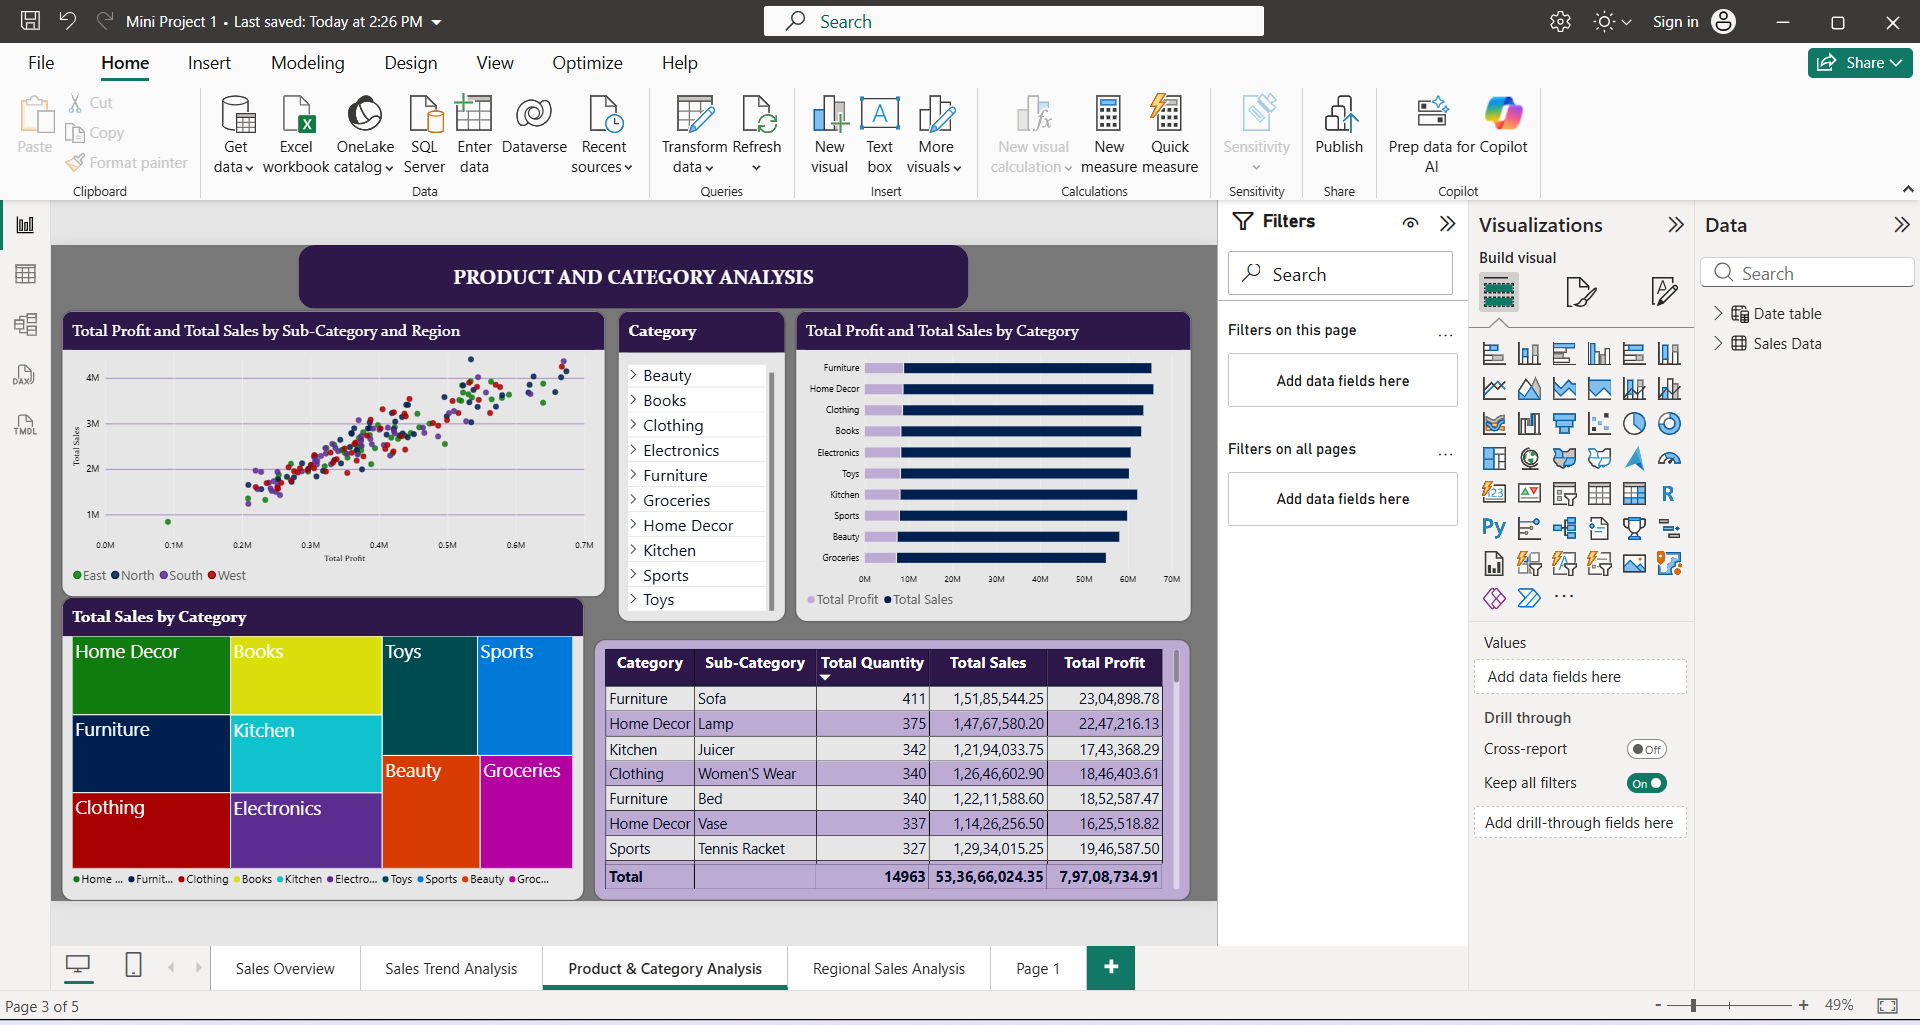

The page's visual inventory and layout, read from the dashboard file:
{"tool":"powerbi","page":{"name":"Product & Category Analysis","canvas":[1920,1080],"ordinal":2},"visuals":[{"type":"barChart","fields":{"Category":["Sales Data.Category"],"Y":["Sales Data.Total Profit","Sales Data.Total Sales"]},"box":[1224,108,654.5,514.6],"z":1},{"type":"treemap","fields":{"Group":["Sales Data.Category","Sales Data.Sub-Category"],"Values":["Sales Data.Total Sales"]},"box":[16,578,862,502],"z":2},{"type":"scatterChart","fields":{"Category":["Sales Data.Sub-Category"],"Series":["Sales Data.Region"],"X":["Sales Data.Total Profit"],"Y":["Sales Data.Total Sales"]},"box":[16.5,107,897.4,473.4],"z":3},{"type":"tableEx","fields":{"Values":["Sales Data.Category","Sales Data.Sub-Category","Sales Data.Total Quantity","Sales Data.Total Sales","Sales Data.Total Profit"]},"box":[894,648,984,432],"z":4},{"type":"listSlicer","fields":{"Values":["Sales Data.Category","Sales Data.Sub-Category"]},"box":[932,108,278,514],"z":6},{"type":"shape","box":[407.5,0,1103.3,105],"z":7}]}

Visuals, with their boxes on the page's 1920x1080 design canvas (x1, y1, x2, y2). These are canvas units, not pixel positions in the 1920x1025 screenshot, which may show the page scaled, cropped or inside an application window:
barChart - Sales Data.Category x Sales Data.Total Profit: <box>1224,108,1878,623</box>
treemap - Sales Data.Category x Sales Data.Sub-Category: <box>16,578,878,1080</box>
scatterChart - Sales Data.Sub-Category x Sales Data.Region: <box>16,107,914,580</box>
tableEx - Sales Data.Category x Sales Data.Sub-Category: <box>894,648,1878,1080</box>
listSlicer - Sales Data.Category x Sales Data.Sub-Category: <box>932,108,1210,622</box>
shape: <box>408,0,1511,105</box>
